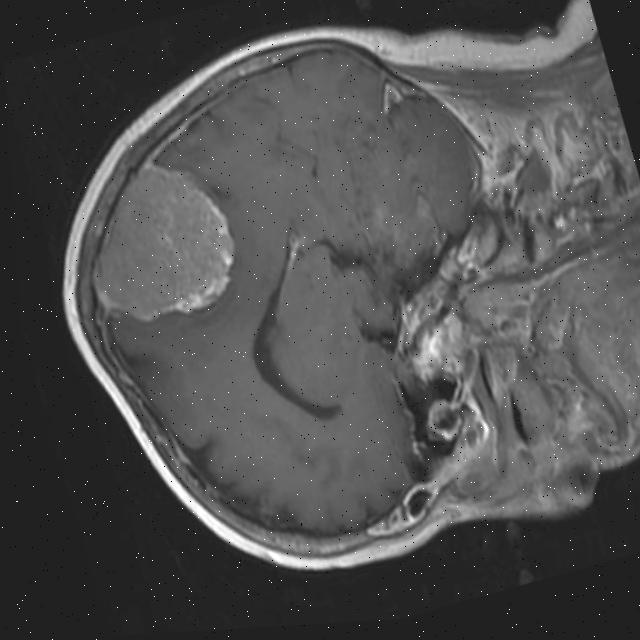Meningioma: (62, 142, 251, 340)
